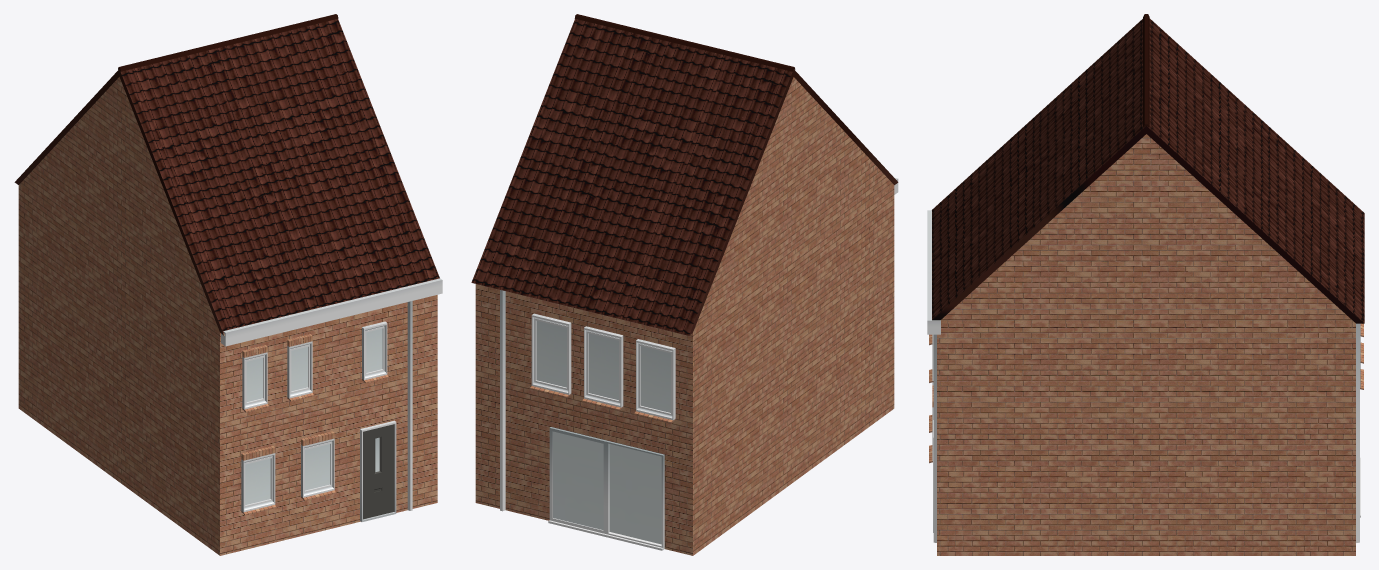
Rendered from Buorkerij_59.fbx.
3 renders of one model, left to right at view 1: azimuth 30°, elevation 25°; view 2: azimuth 150°, elevation 25°; view 3: azimuth 270°, elevation 25°, orthographic. The views are drawn at different scales.
Parts seen in each view (by area): view 1: Buorkerij_59; view 2: Buorkerij_59; view 3: Buorkerij_59.
Boxes of the visible parts, x1,y1,x2,y2 form: Buorkerij_59: (14,14,442,555); Buorkerij_59: (471,14,898,555); Buorkerij_59: (927,14,1364,555).
Size of the model in its own units: 592 by 1077 by 990.
